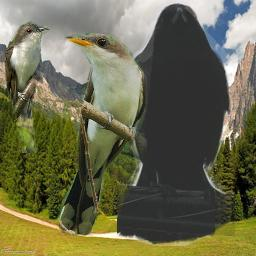Crow: (117, 3, 235, 246)
Cuckoo: (58, 33, 147, 236), (5, 19, 50, 153)
